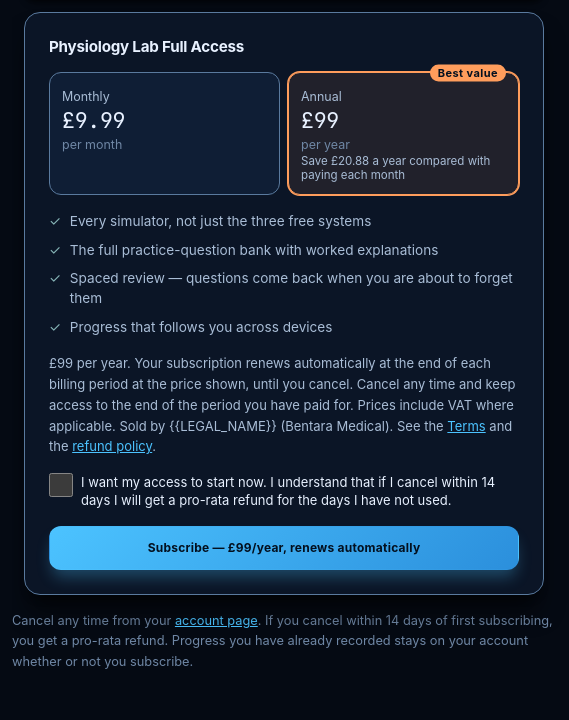
it: pricing page › refuses to pretend it can sell anything when no offering came back
The width and height of the screenshot is (569, 720).
(page scrolled)
Click the checkbox labelled "access to start now".
click(61, 485)  # box x1=49 y1=473 x2=73 y2=497
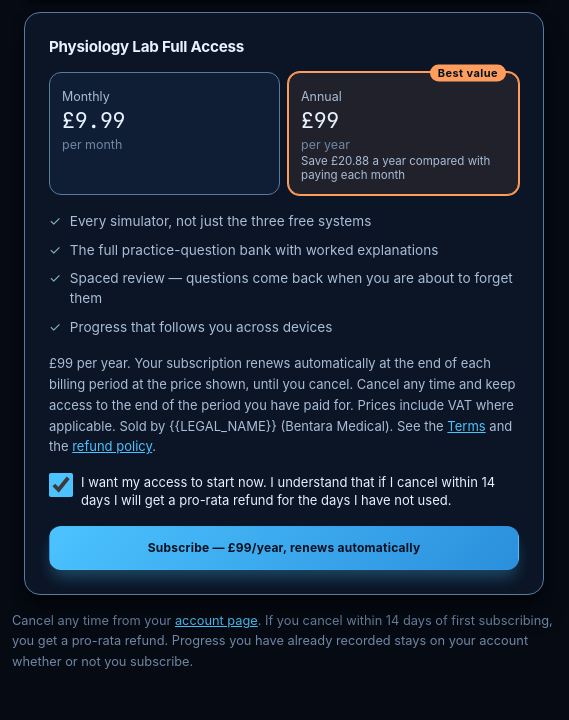
Click the button "Subscribe — £99/year, renews automatically".
click(284, 548)  # box x1=49 y1=526 x2=519 y2=570
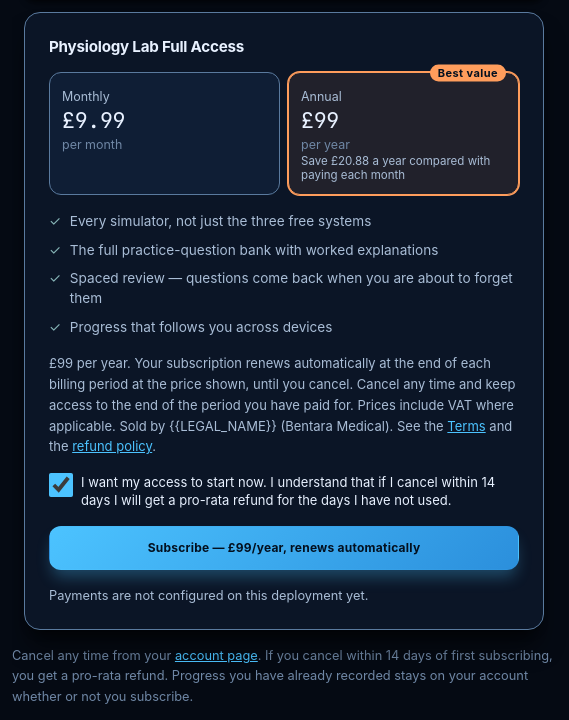
Now the text "Payments are not configured on this deployment yet." is shown, box x1=49 y1=588 x2=368 y2=603
